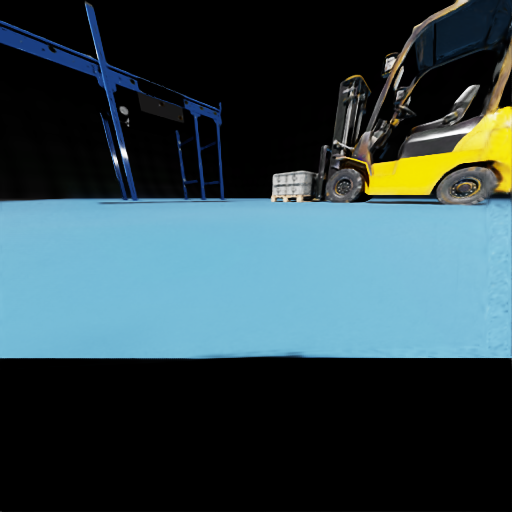transportation_area: (286, 183, 315, 194), (294, 171, 295, 178), (119, 77, 120, 79), (98, 69, 99, 71), (42, 49, 44, 50)
